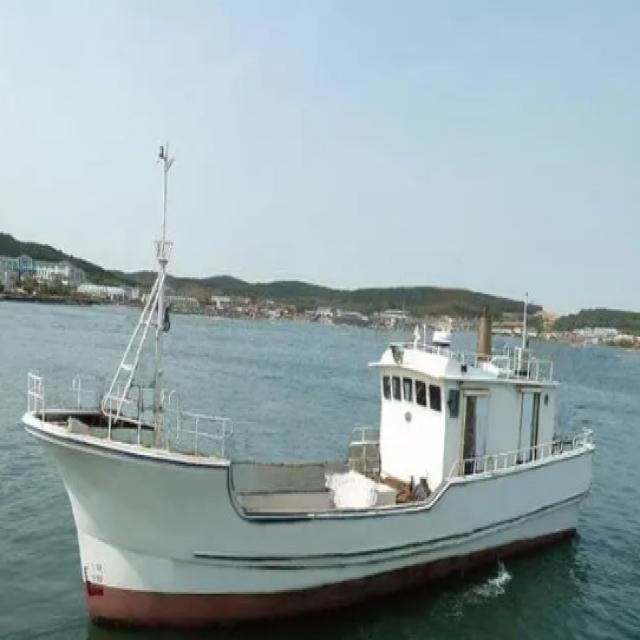houseboat: (24, 180, 618, 639)
